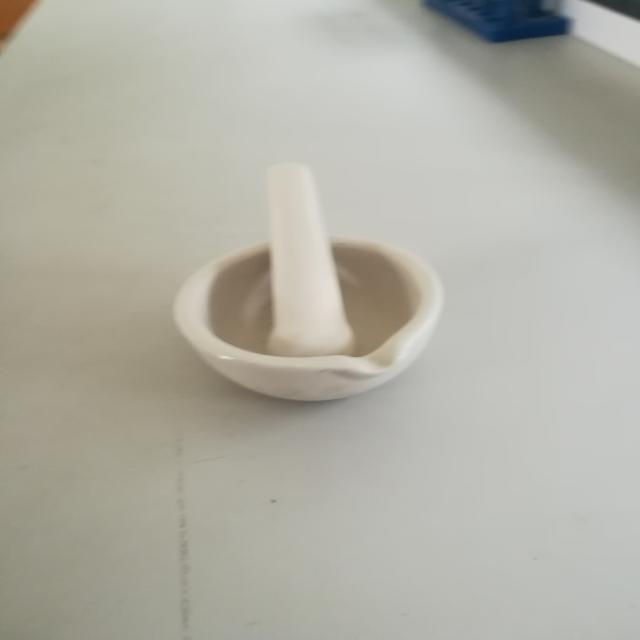Porcelain_Mortar Pestle: (132, 147, 464, 425)
